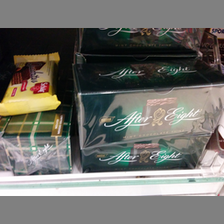chocolate: (71, 60, 224, 146), (1, 57, 57, 112)
